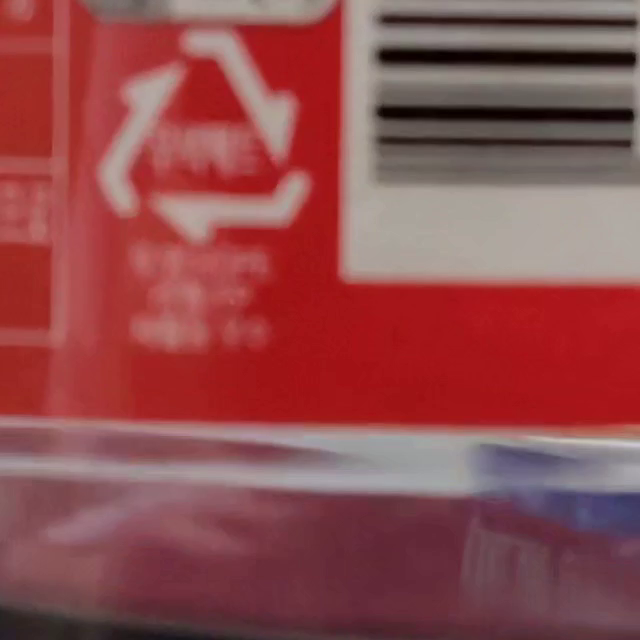ColorlessPet: (97, 35, 313, 243)
